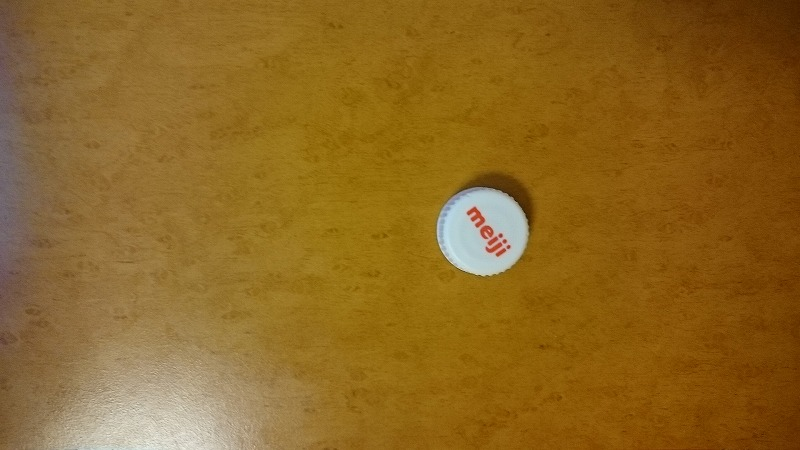B: (429, 179, 537, 280)
